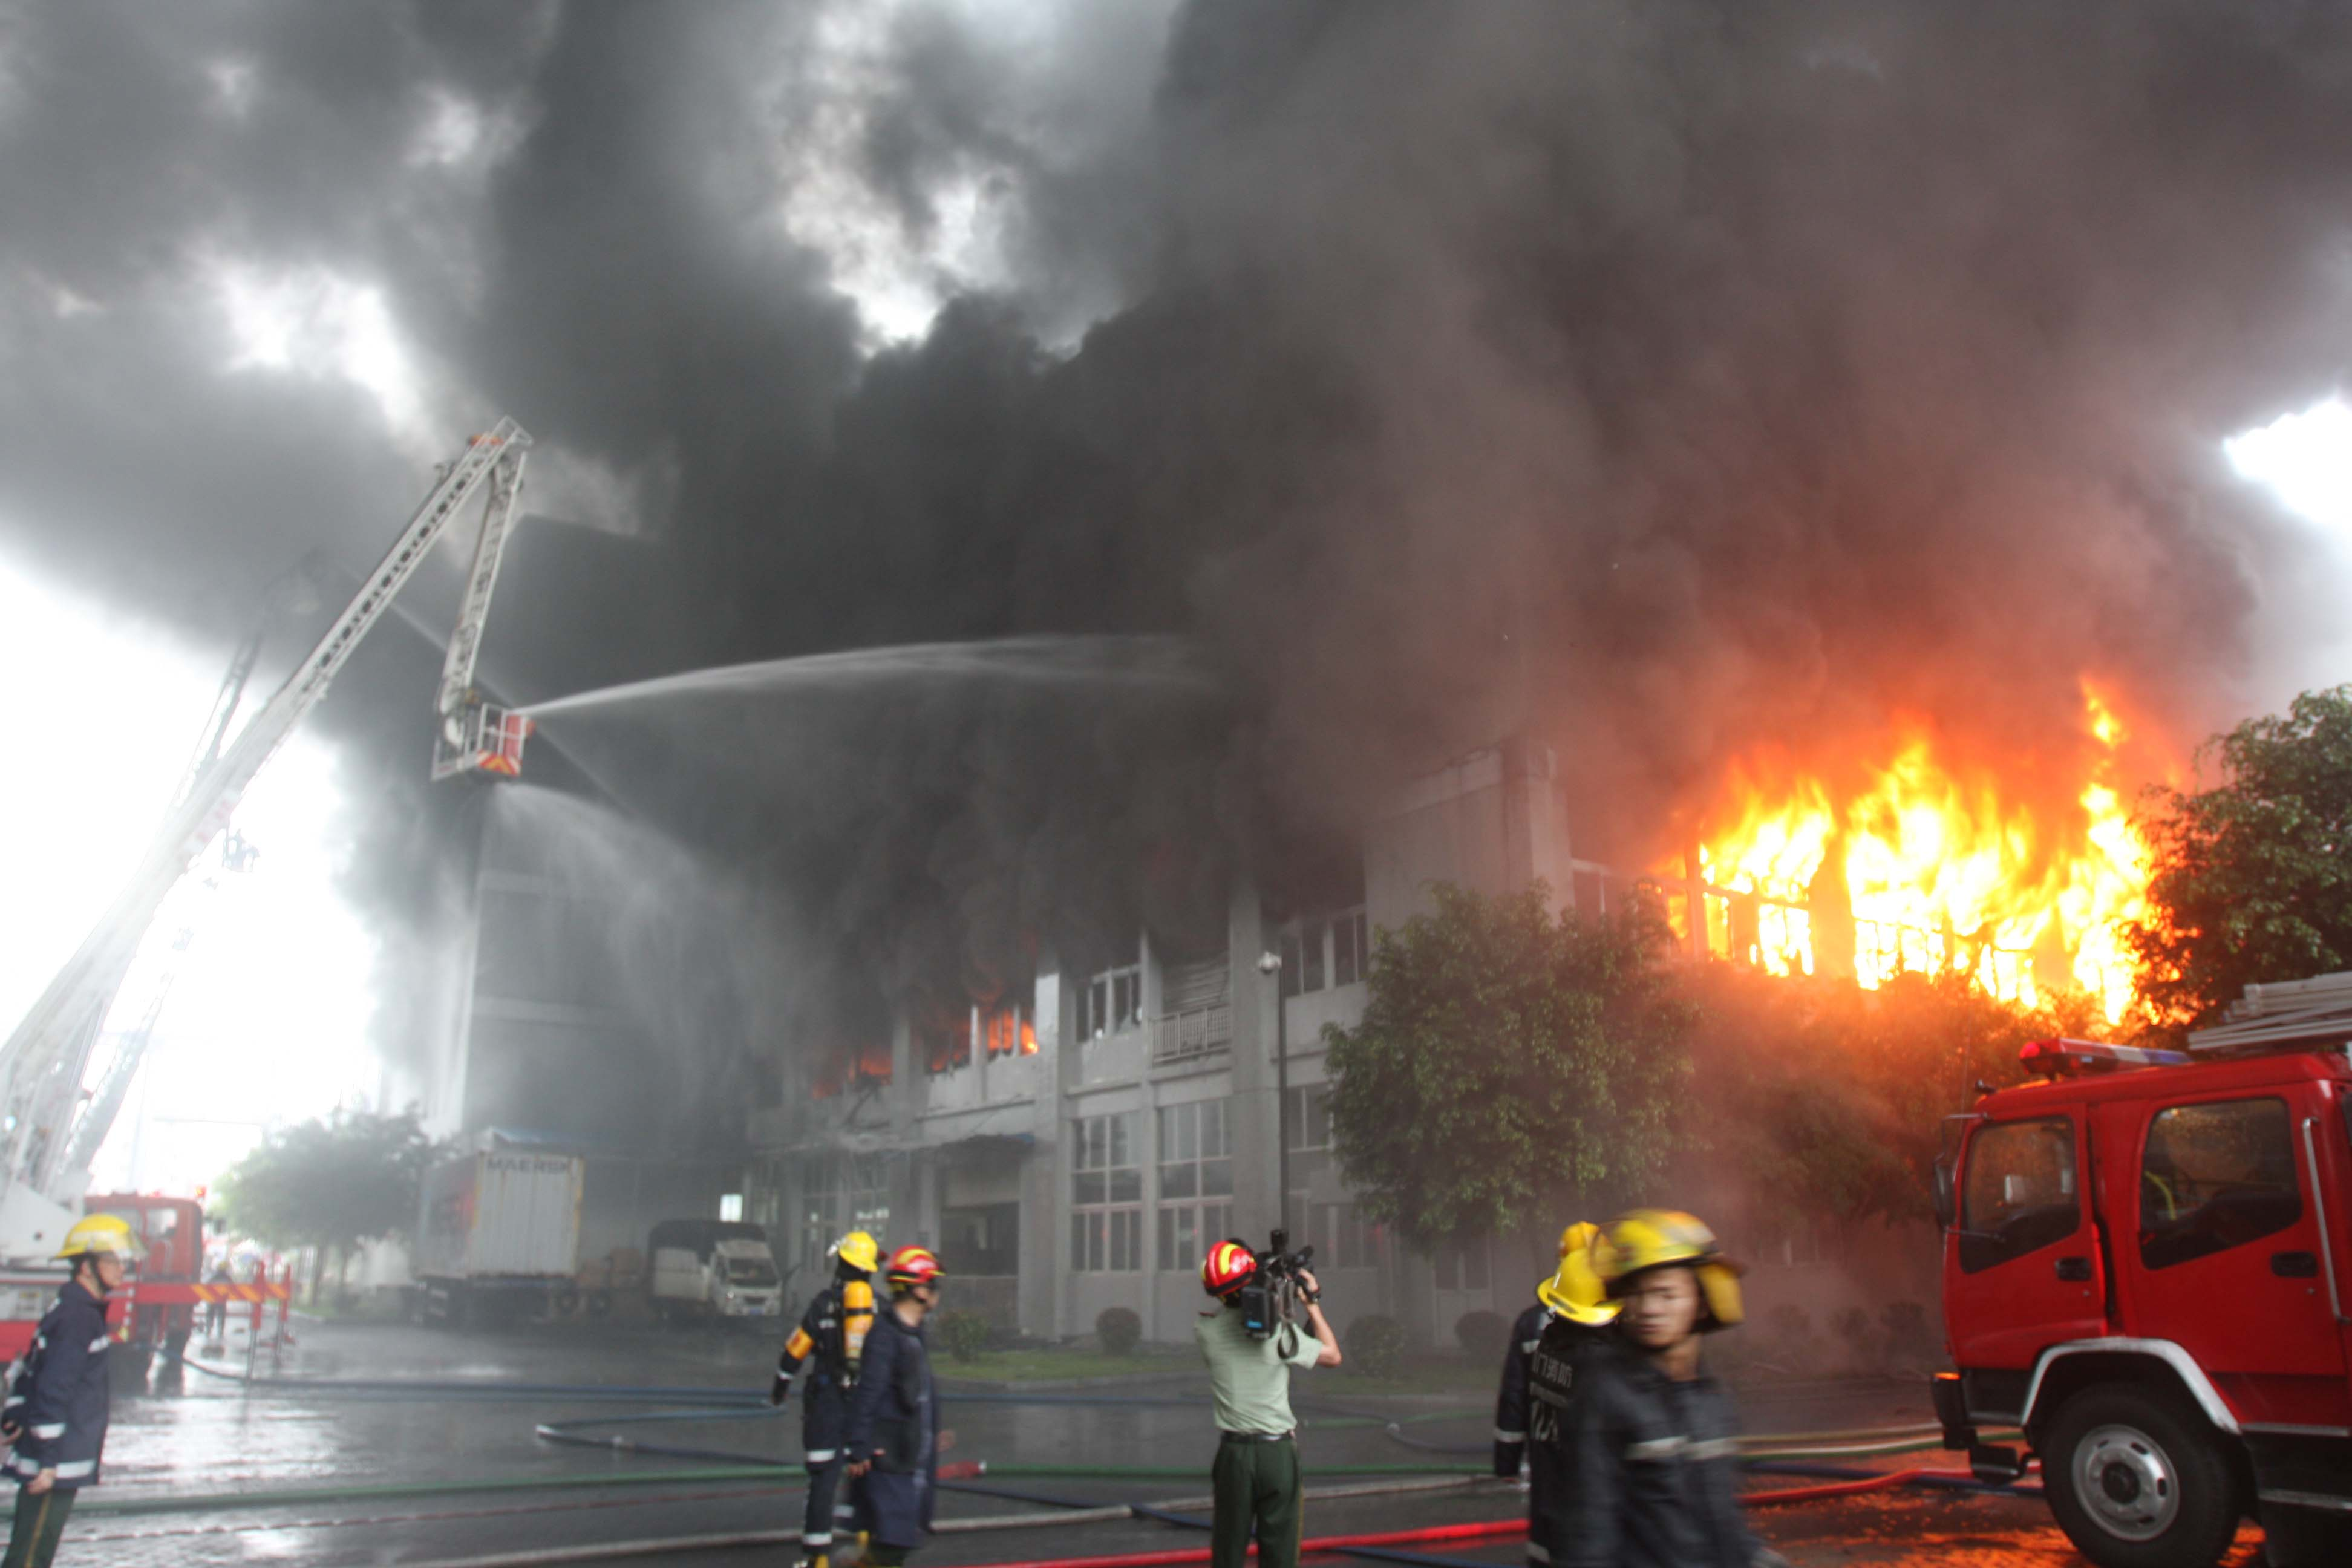fire: (1657, 630, 2208, 1043)
